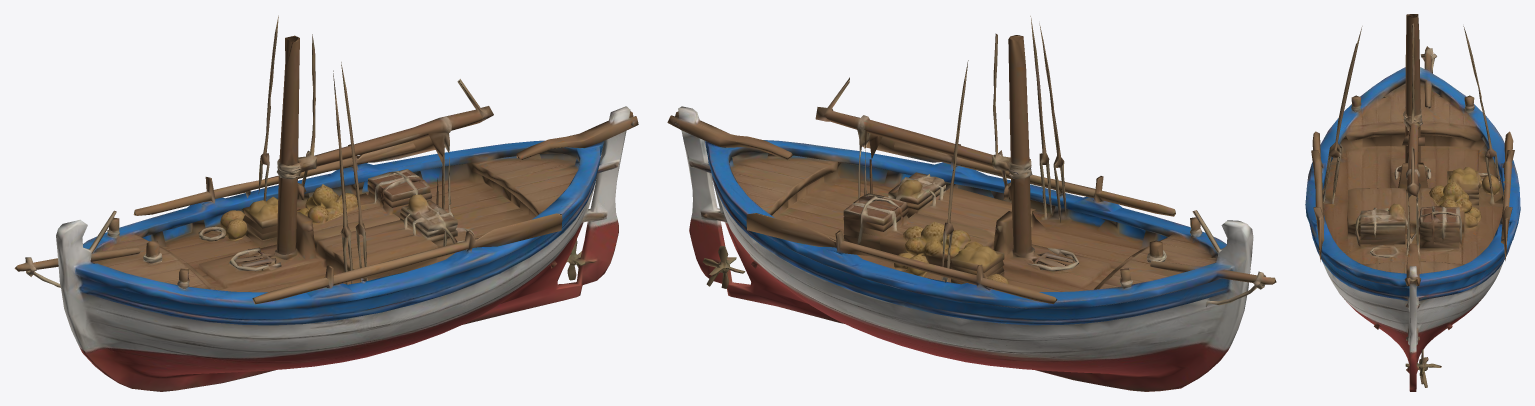
Rendered from sponge_boat.glb.
3 renders of one model, left to right at view 1: azimuth 30°, elevation 25°; view 2: azimuth 150°, elevation 25°; view 3: azimuth 270°, elevation 25°, orthographic. The views are drawn at different scales.
Parts seen in each view (by area): view 1: tripo_node_bdae0ea1-1c6a-42fe-b04b-0a014035487f; view 2: tripo_node_bdae0ea1-1c6a-42fe-b04b-0a014035487f; view 3: tripo_node_bdae0ea1-1c6a-42fe-b04b-0a014035487f.
Part boxes in pixels (x1,y1,x2,y2): tripo_node_bdae0ea1-1c6a-42fe-b04b-0a014035487f: [14, 15, 638, 391]; tripo_node_bdae0ea1-1c6a-42fe-b04b-0a014035487f: [667, 16, 1276, 391]; tripo_node_bdae0ea1-1c6a-42fe-b04b-0a014035487f: [1305, 14, 1520, 391].
Size of the model in its own units: 0.9855 by 0.5031 by 0.3705.
1 material, 1 textured.
